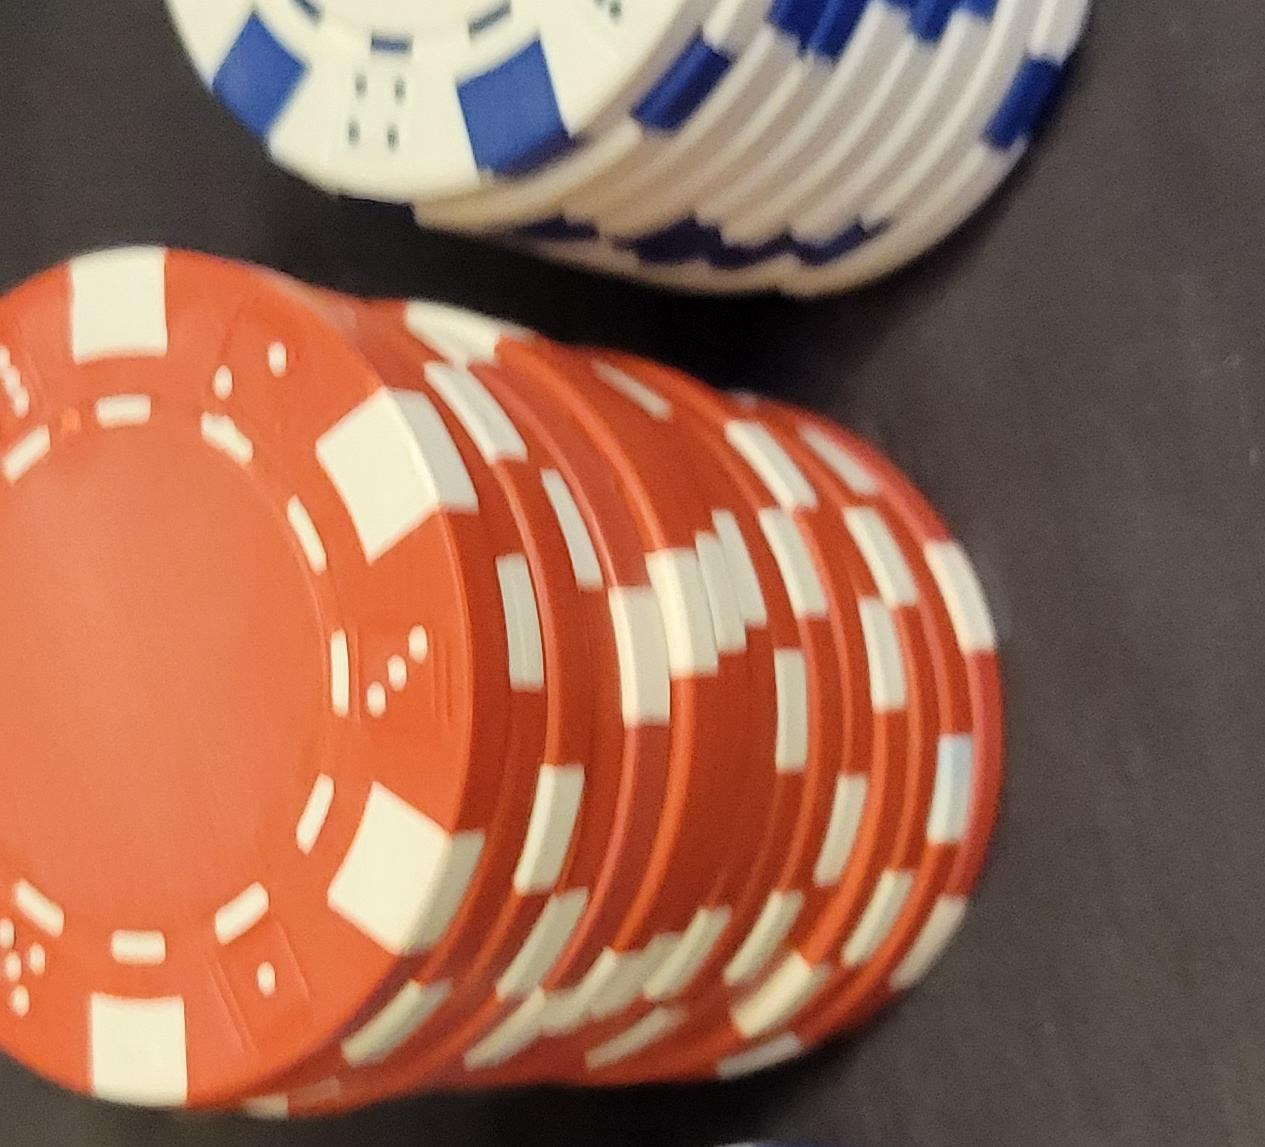Chip: (1, 270, 594, 1147)
